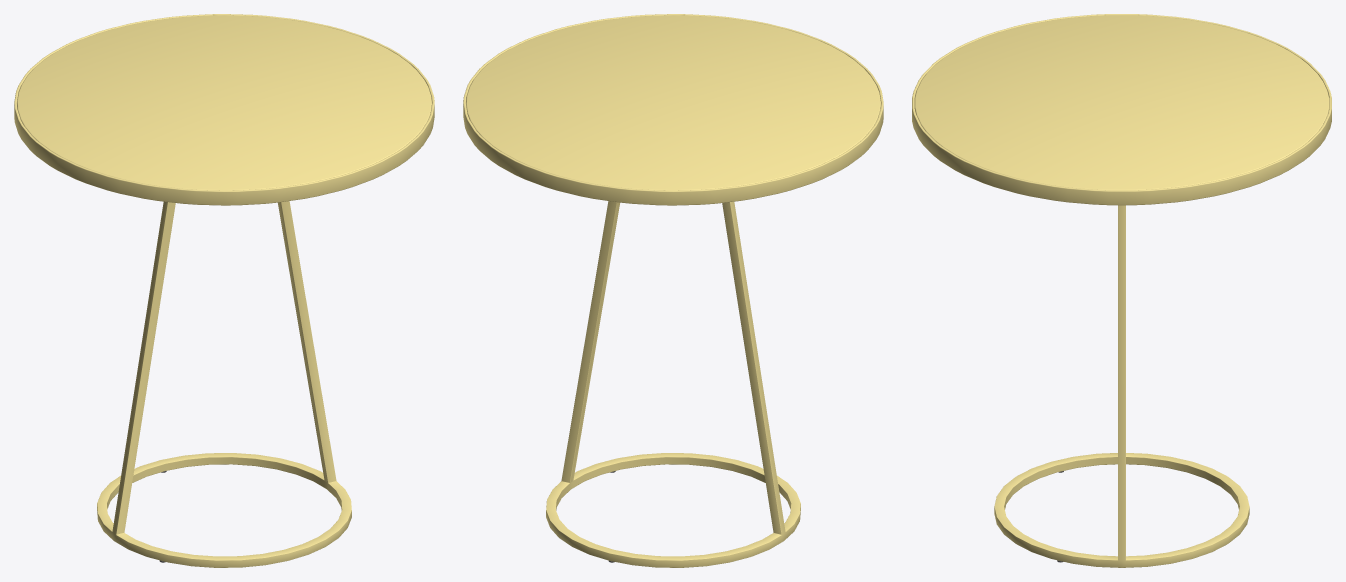
The model's file is roundTableYellow.glb.
3 renders of one model, left to right at view 1: azimuth 30°, elevation 25°; view 2: azimuth 150°, elevation 25°; view 3: azimuth 270°, elevation 25°, orthographic.
Parts seen in each view (by area): view 1: Table top.001, Table main, Table top ring; view 2: Table top.001, Table main, Table top ring; view 3: Table top.001, Table main, Table top ring.
Part boxes in pixels (left/top/right/bottom): Table top.001: left=17, top=15, right=431, bottom=190; Table main: left=97, top=201, right=351, bottom=567; Table top ring: left=14, top=14, right=434, bottom=205; Table top.001: left=466, top=15, right=880, bottom=190; Table main: left=546, top=201, right=800, bottom=567; Table top ring: left=463, top=14, right=883, bottom=205; Table top.001: left=914, top=15, right=1329, bottom=190; Table main: left=994, top=205, right=1249, bottom=567; Table top ring: left=912, top=14, right=1331, bottom=205.
Bounding box in the file's own units: 0.5373 × 0.5843 × 0.5373.
